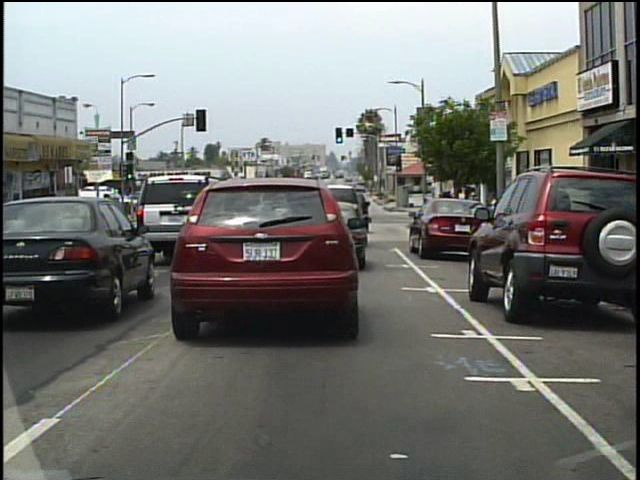person: (454, 192, 467, 232), (445, 193, 456, 232), (467, 189, 480, 221)
